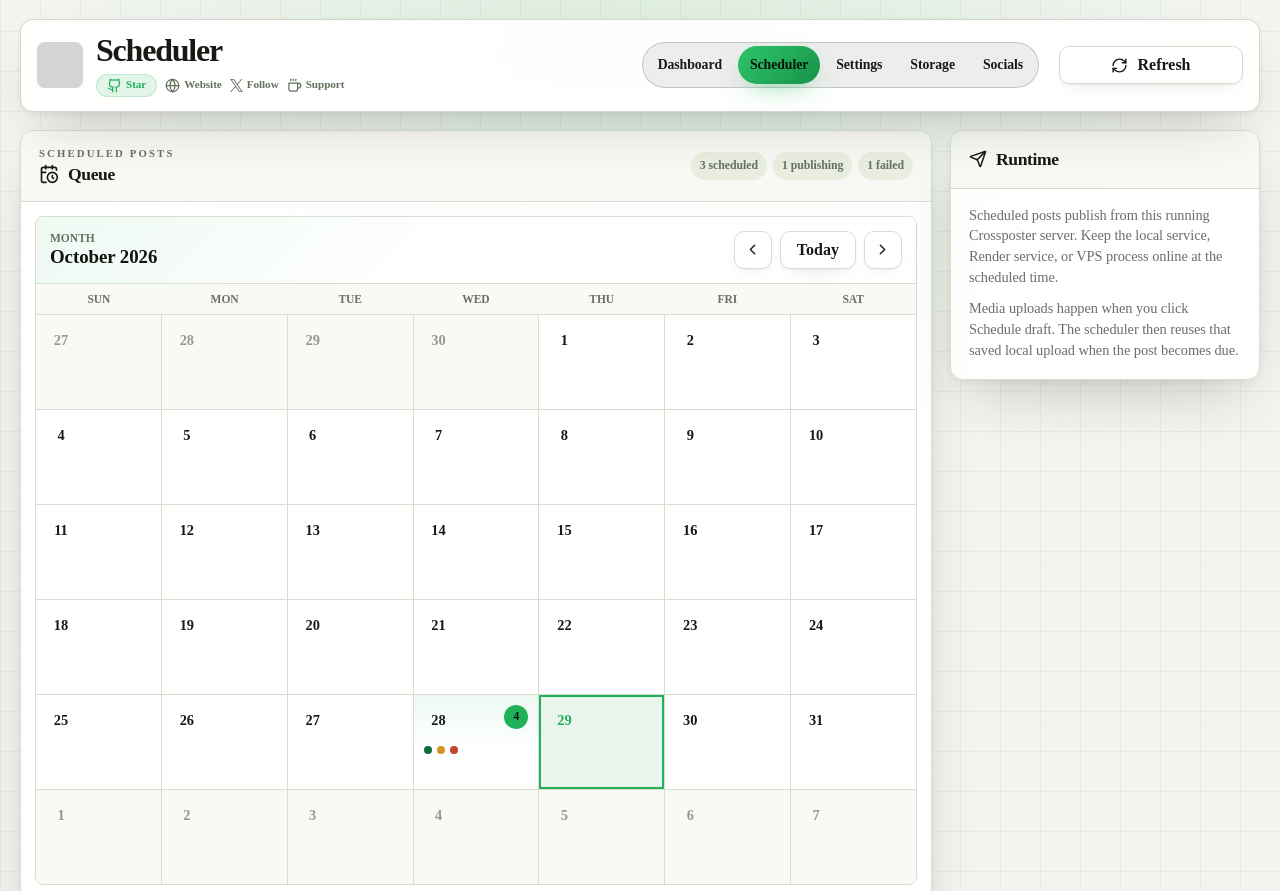
Test case: preserves queue filtering, status-before-time ordering, invalid-date counts and uncertain presentation
Step 1. Click the button named "10/28/2026:" → click(476, 742), box [414, 695, 538, 789]
(page scrolled)
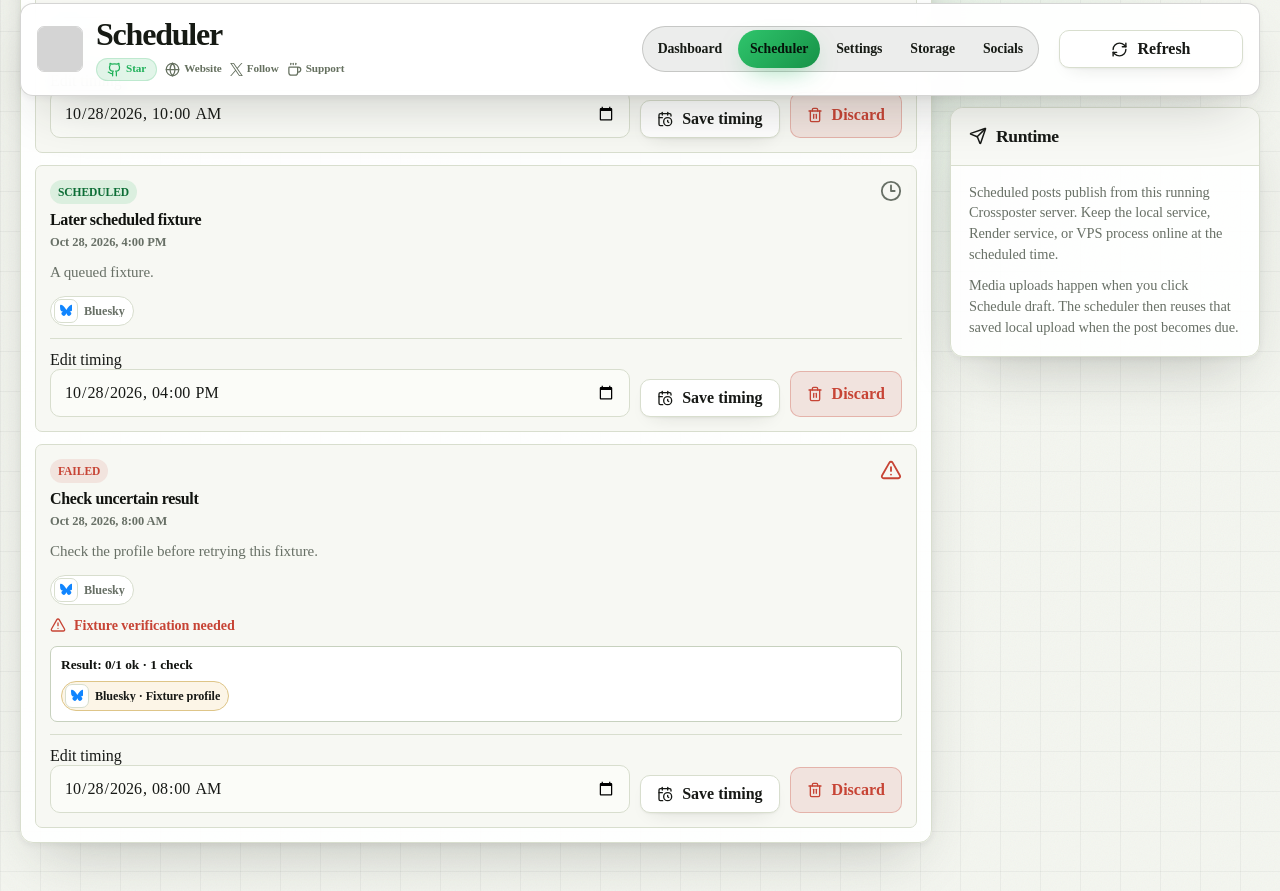
Result: the text "Result: 0/1 ok · 1 check" is shown at [61, 657, 193, 672]
